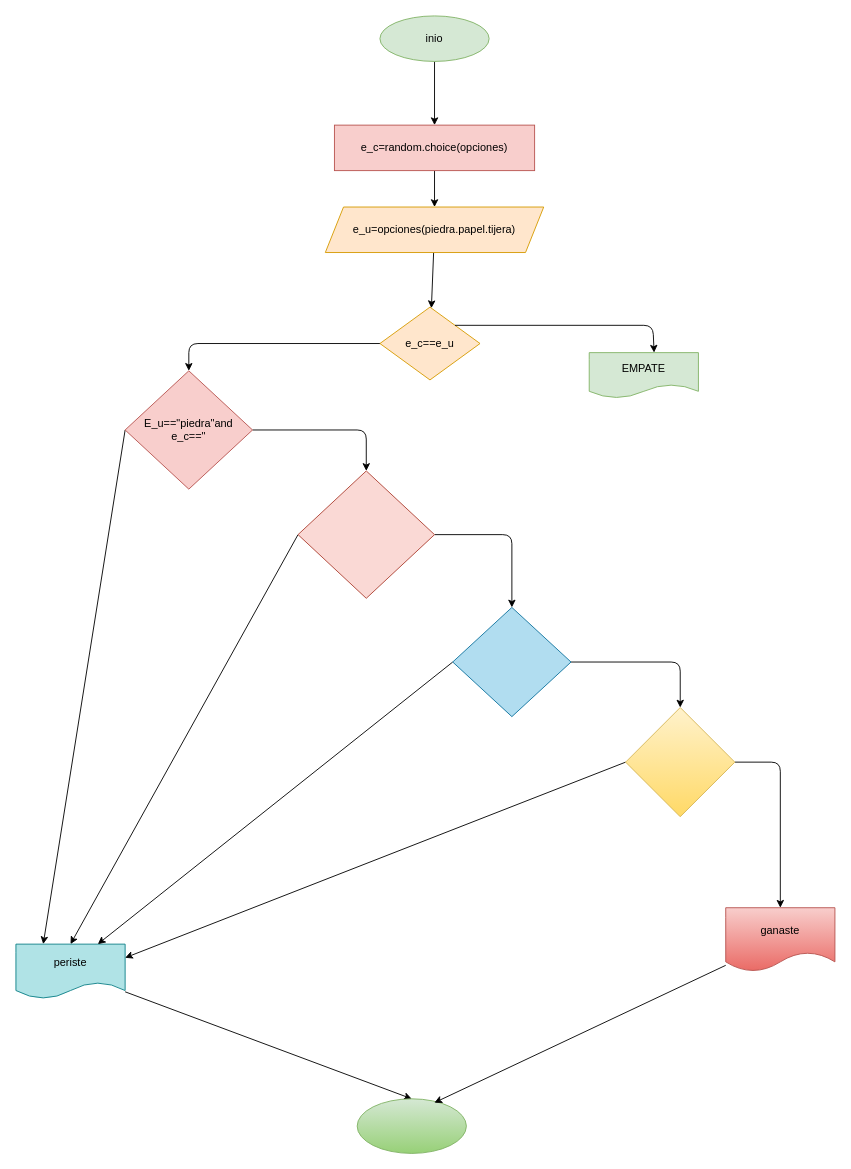
Some shapes in this 851 by 1169 pixel diagram are drawn without their labels. Each missing label, with the box of its shape:
e_u=="piedra" and e_C=="tijera: (625, 707, 735, 817)
e_u=="piedra" and e_c=="tijera": (297, 470, 435, 598)
e_U=="tijera"and e_c=="papel: (452, 607, 571, 717)
fin: (356, 1098, 466, 1153)
